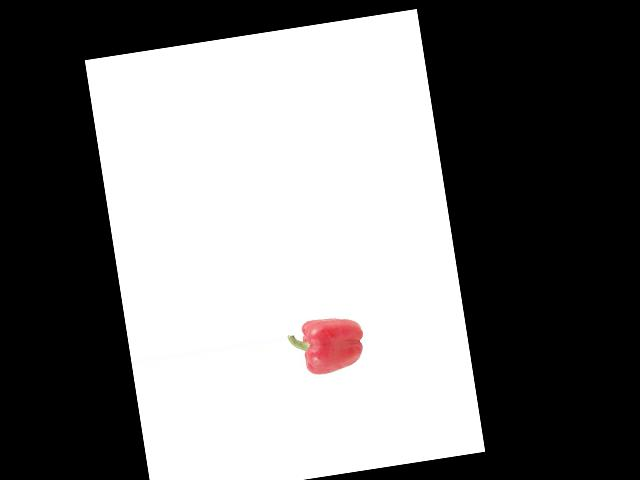bell_pepper: (285, 310, 369, 386)
